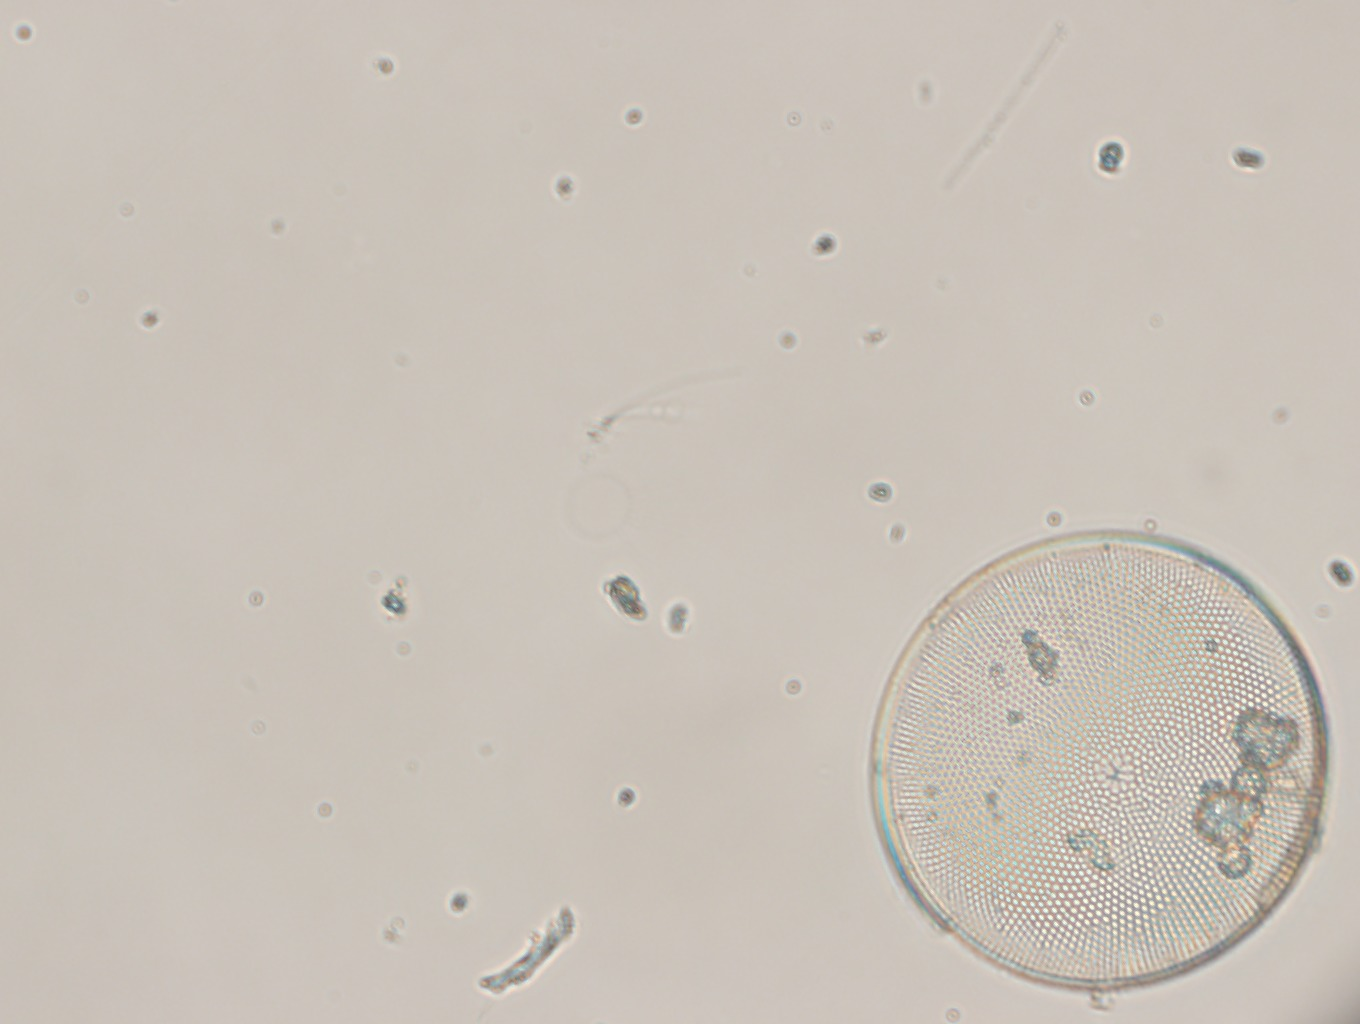coscinodiscus: (860, 524, 1333, 996)
